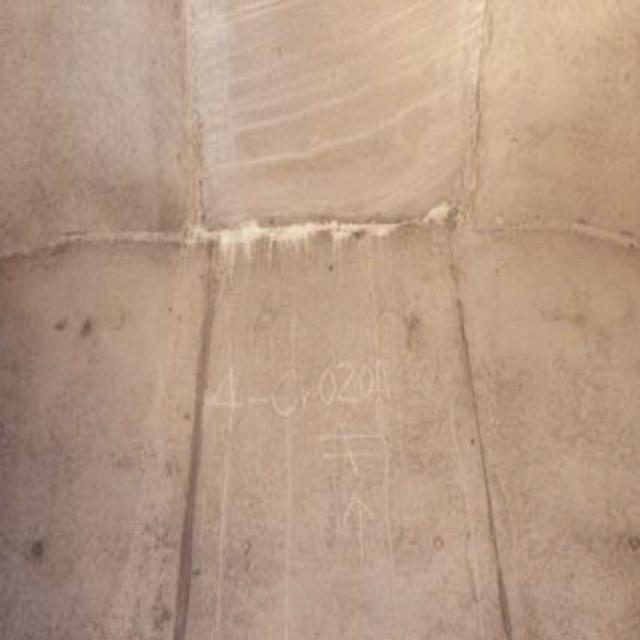freelime: (106, 193, 453, 253)
